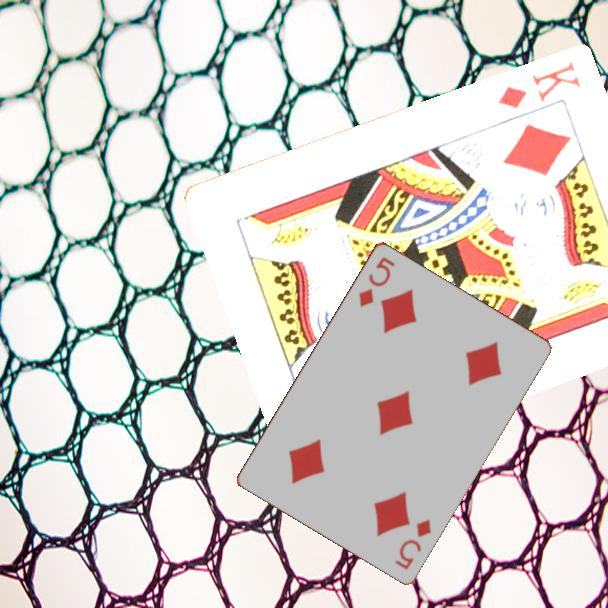d05: (355, 253, 398, 310), (391, 515, 434, 572)
d13: (494, 57, 584, 111)
